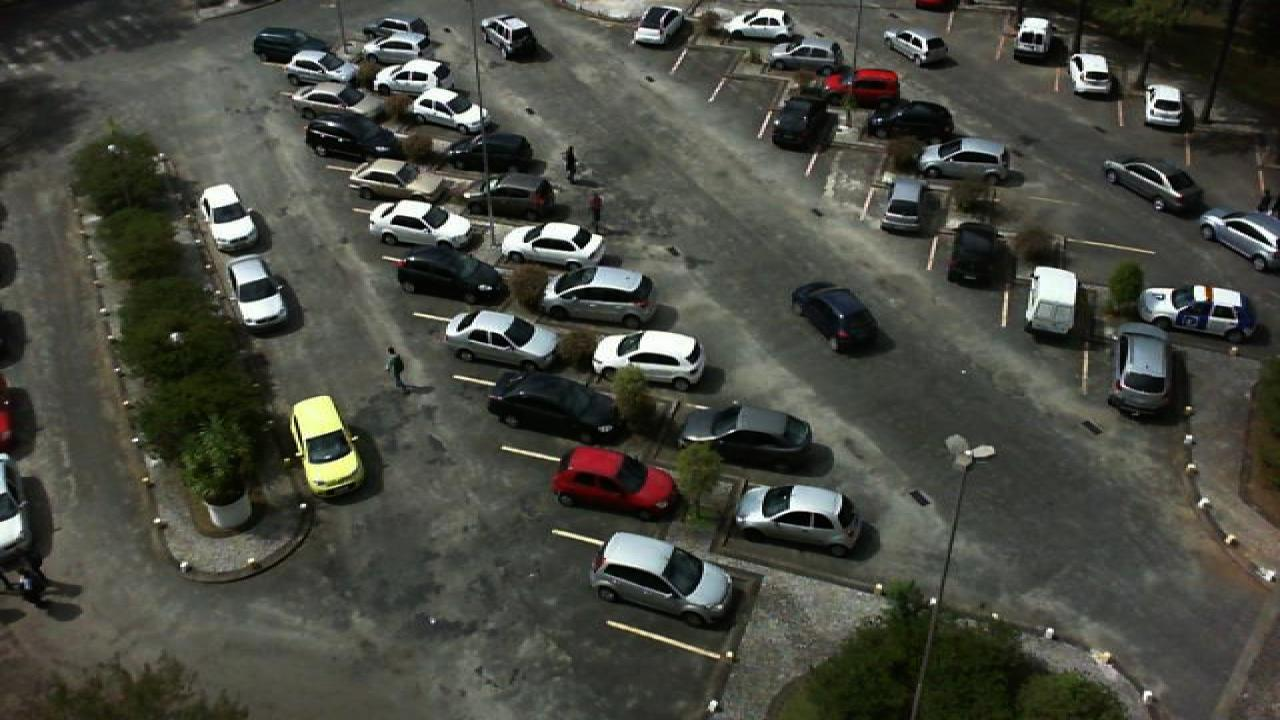Car: (590, 532, 738, 627), (484, 371, 620, 442), (548, 446, 680, 518), (734, 484, 864, 556), (674, 400, 818, 463), (290, 394, 368, 498), (442, 307, 564, 371), (1136, 284, 1258, 346), (540, 266, 660, 325), (1104, 323, 1180, 416), (590, 330, 708, 389), (394, 246, 510, 306), (790, 282, 882, 354), (1100, 156, 1208, 214), (498, 220, 610, 272), (368, 198, 476, 250), (452, 172, 560, 222), (300, 110, 404, 161), (1198, 208, 1280, 272), (916, 138, 1022, 184), (226, 255, 290, 331), (198, 184, 264, 254), (944, 220, 1010, 288), (1026, 264, 1084, 340), (434, 130, 534, 174), (348, 158, 448, 202), (408, 87, 492, 135), (876, 176, 942, 235), (770, 96, 838, 152), (864, 98, 958, 138), (286, 47, 362, 87), (290, 83, 376, 118), (368, 58, 448, 94), (478, 14, 540, 60), (766, 39, 846, 72), (884, 28, 954, 65), (1064, 53, 1118, 99), (252, 27, 320, 63), (1142, 84, 1194, 130), (1012, 17, 1064, 61), (632, 5, 688, 45), (848, 68, 902, 108), (732, 8, 800, 38), (364, 34, 436, 62), (376, 16, 432, 42)
